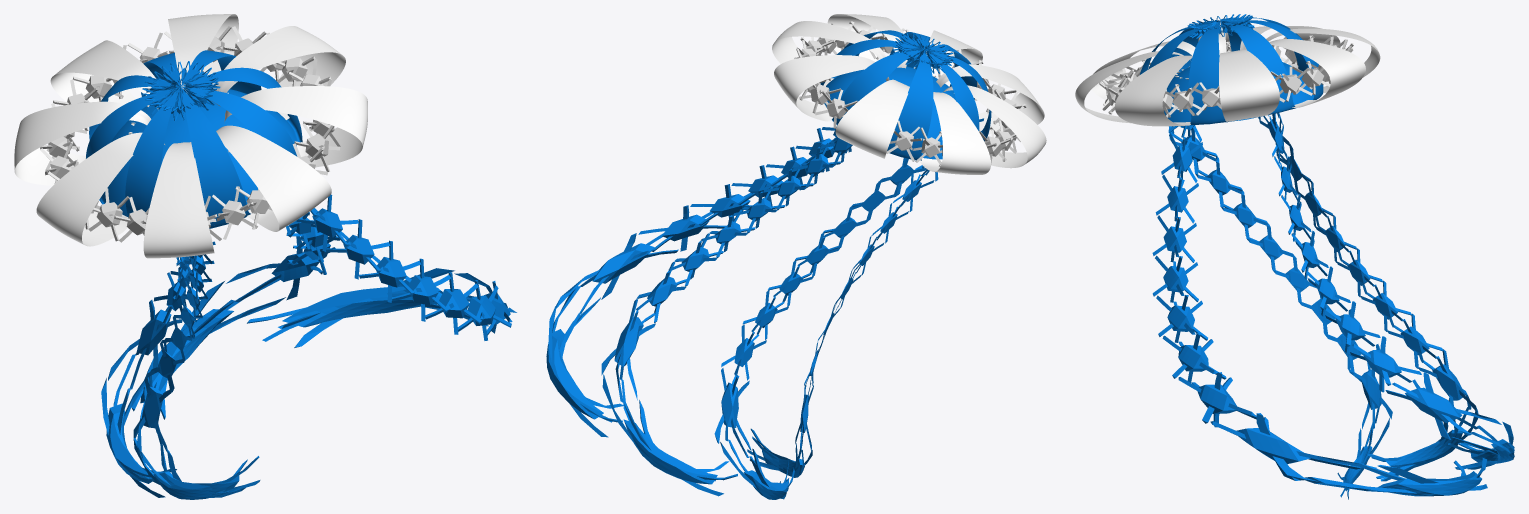
Rendered from jellyfish.fbx.
The picture shows the model from 3 angles, left to right: view 1: azimuth 30°, elevation 25°; view 2: azimuth 150°, elevation 25°; view 3: azimuth 270°, elevation 25°; orthographic projection. The views are drawn at different scales.
Parts seen in each view (by area): view 1: laccio piegato, Cube.000, testa medusa, Cube.006, Cube.001; view 2: Cube.000, laccio piegato, testa medusa, Cube.006, Cube.001; view 3: Cube.000, laccio piegato, testa medusa, Cube.006, Cube.001.
Part boxes in pixels (x1,y1,x2,y2): laccio piegato: (14,14,367,258); Cube.000: (101,194,516,499); testa medusa: (86,50,302,228); Cube.006: (40,26,340,242); Cube.001: (142,61,220,120); Cube.000: (546,118,983,499); laccio piegato: (772,14,1046,174); testa medusa: (820,30,991,160); Cube.006: (794,21,1026,166); Cube.001: (892,33,954,73); Cube.000: (1152,113,1514,499); laccio piegato: (1075,26,1380,126); testa medusa: (1140,17,1323,126); Cube.006: (1099,35,1353,117); Cube.001: (1187,14,1254,38).
Bounding box in the file's own units: 594 × 562 × 511.
